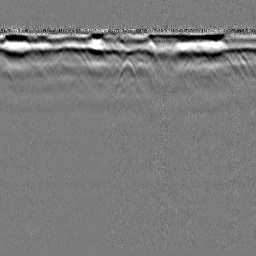cavity: (116, 57, 138, 84)
